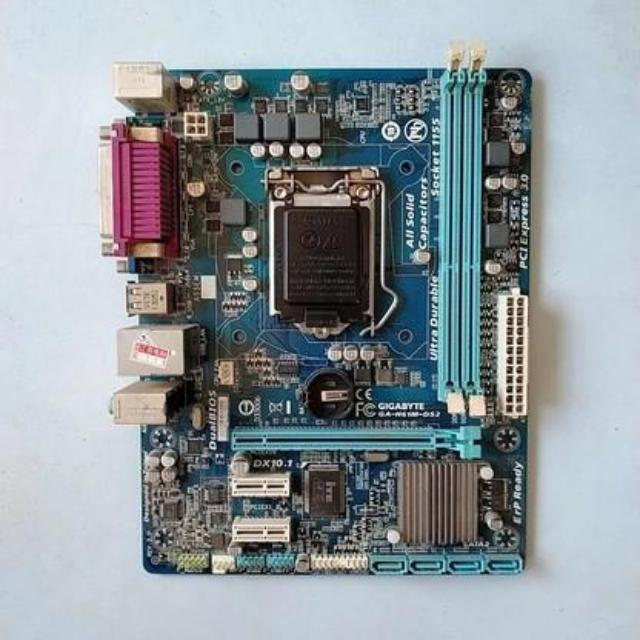Mainboard: (96, 54, 541, 582)
